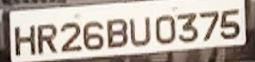0: (154, 13, 176, 45)
2: (59, 22, 82, 53)
3: (175, 11, 198, 42)
5: (219, 7, 240, 39)
6: (82, 20, 104, 50)
7: (198, 10, 218, 41)
B: (105, 17, 128, 48)
H: (12, 24, 36, 57)
R: (36, 22, 57, 53)
U: (128, 15, 151, 48)
